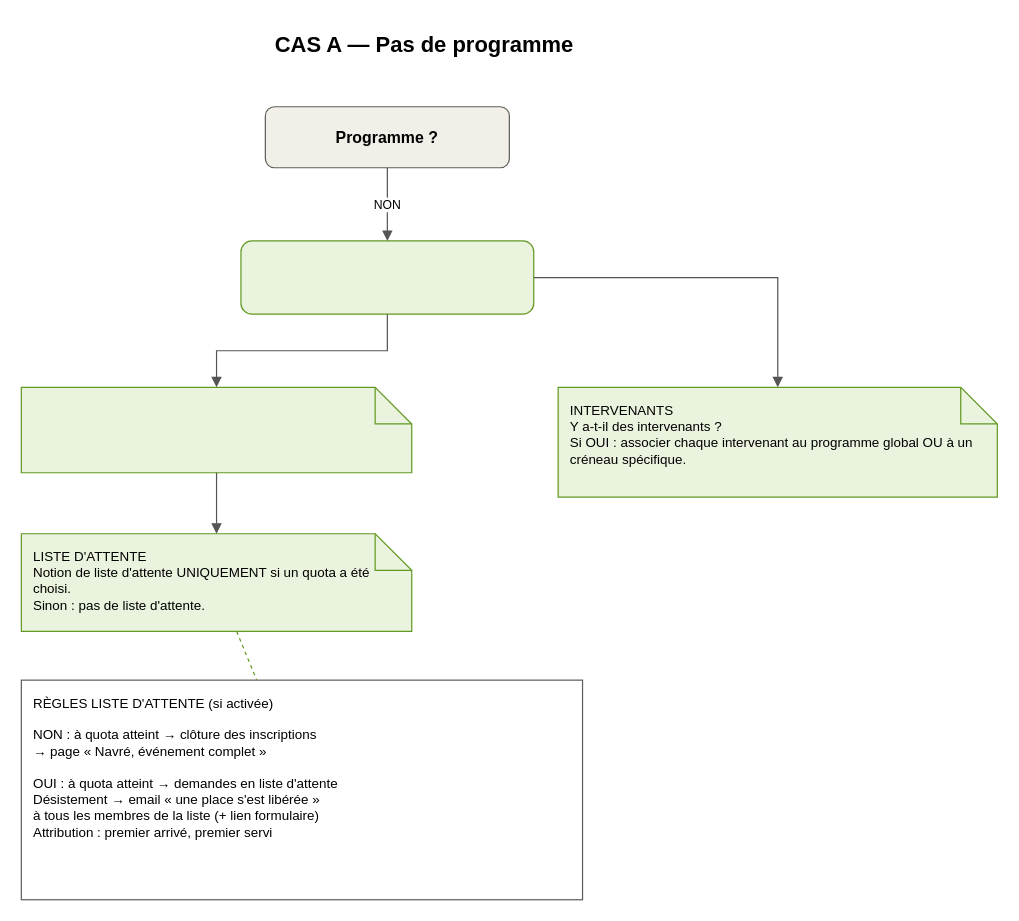
The diagram is 1019 pixels wide and 921 high, and some of its shapes have lost their labels. Here are the shapes that lost their labels. From the top down, the centre of each, then its label:
At (x=387, y=277): "CAS A Pas de programme".
At (x=216, y=429): "QUOTA Facultatif — l'utilisateur choisit d'appliquer un quota ou non".
